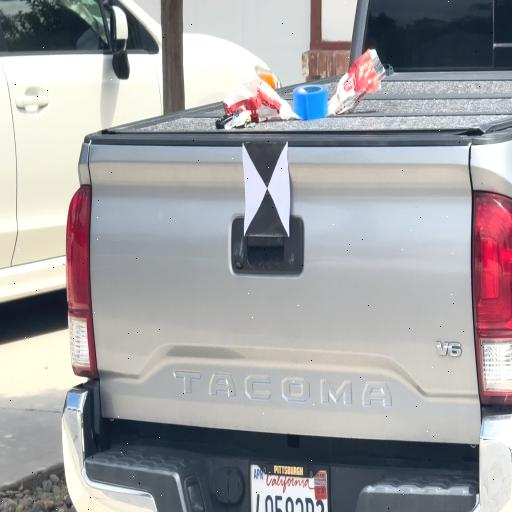target: (244, 142, 288, 236)
